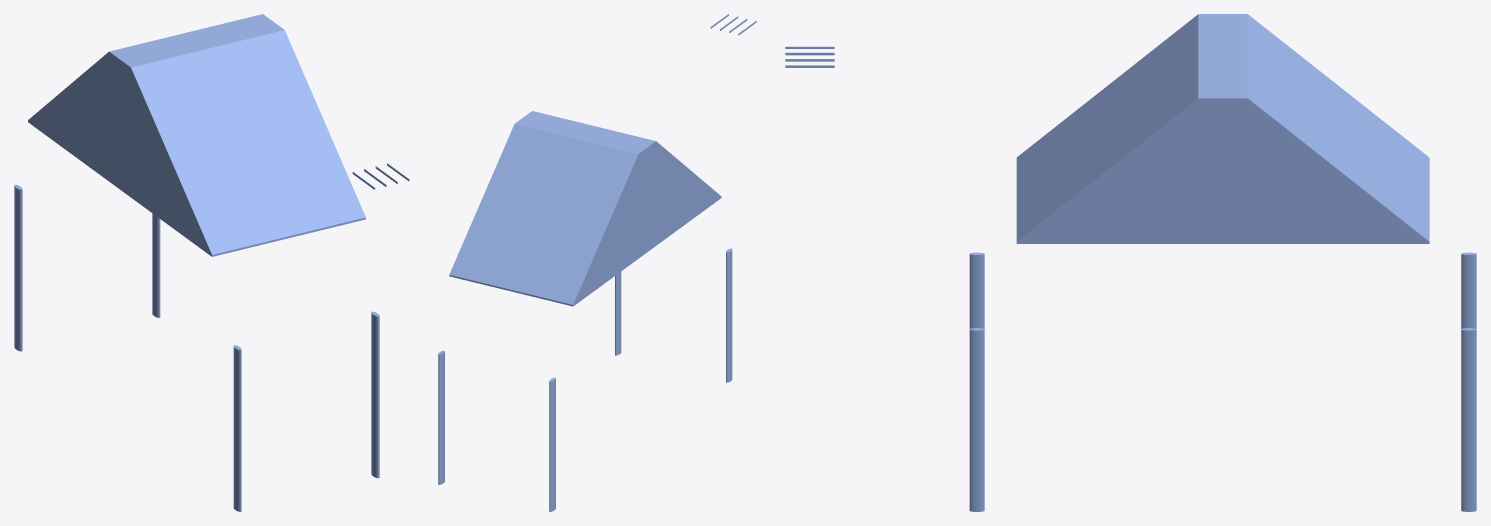
File: garden-bench-ed309b13.glb
3 views of the same model, side by side, from view 1: azimuth 30°, elevation 25°; view 2: azimuth 150°, elevation 25°; view 3: azimuth 270°, elevation 25° (orthographic). The views are drawn at different scales.
Parts seen in each view (by area): view 1: output; view 2: output; view 3: output.
Boxes of the visible parts, left/top/right/bottom form: output: left=14, top=14, right=409, bottom=511; output: left=438, top=14, right=756, bottom=511; output: left=785, top=14, right=1476, bottom=511.
Bounding box in the file's own units: 0.6632 × 1.53 × 2.3.
